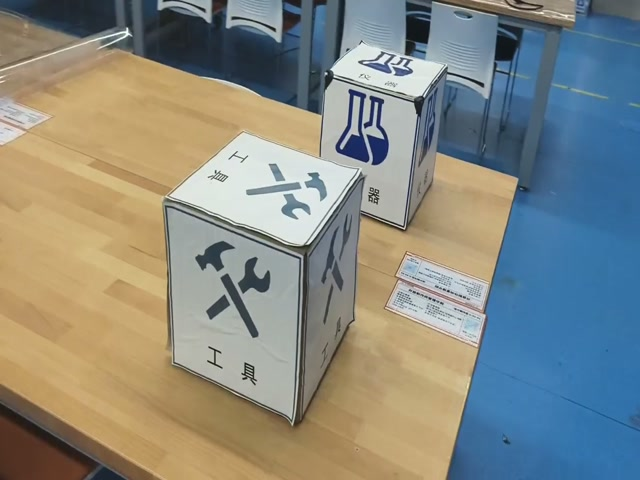Cube_ins: (326, 43, 446, 102)
Cube_tool: (163, 132, 363, 250)
